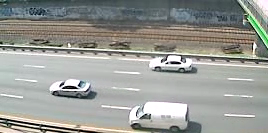car: (126, 100, 192, 133), (148, 52, 196, 75), (48, 77, 92, 99)
